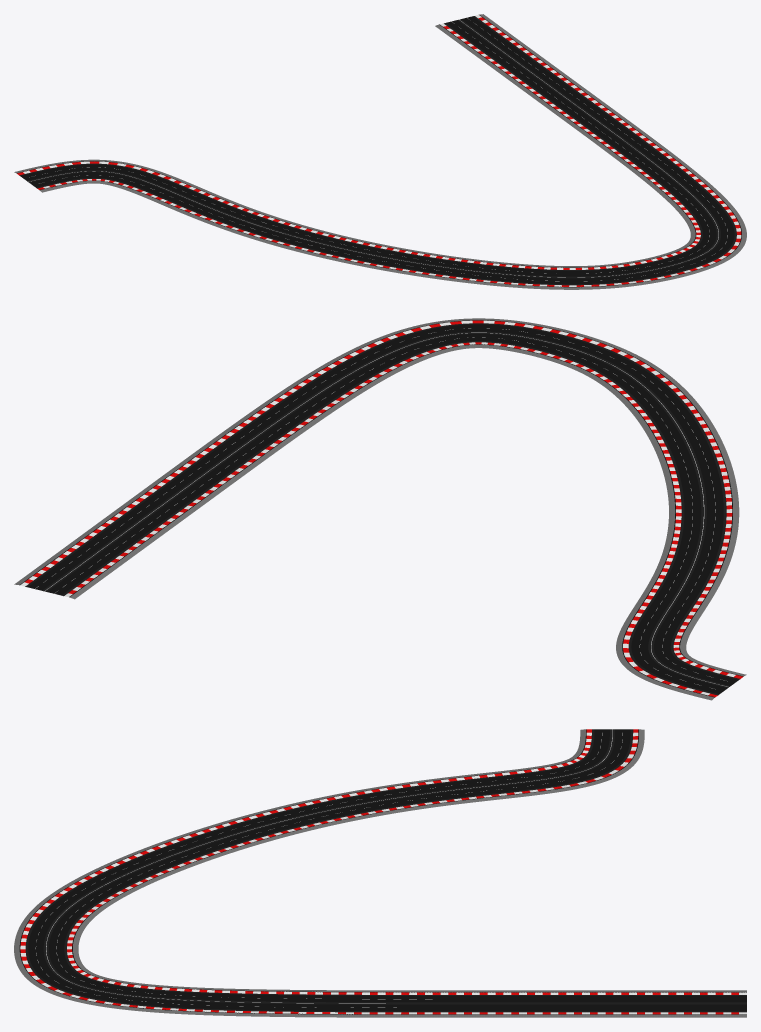
Rendered from S0.2l2-gee.glb.
3 views of the same model, one above another, from view 1: azimuth 30°, elevation 25°; view 2: azimuth 150°, elevation 25°; view 3: azimuth 270°, elevation 25° (orthographic). The views are drawn at different scales.
Visible parts, largest first — view 1: Grid; view 2: Grid; view 3: Grid.
Boxes of the visible parts, x1=… form: Grid: x1=14, y1=14, x2=746, y2=289; Grid: x1=14, y1=318, x2=746, y2=700; Grid: x1=14, y1=729, x2=746, y2=1017.
Bounding box in the file's own units: 264 × 0.31 × 284.
